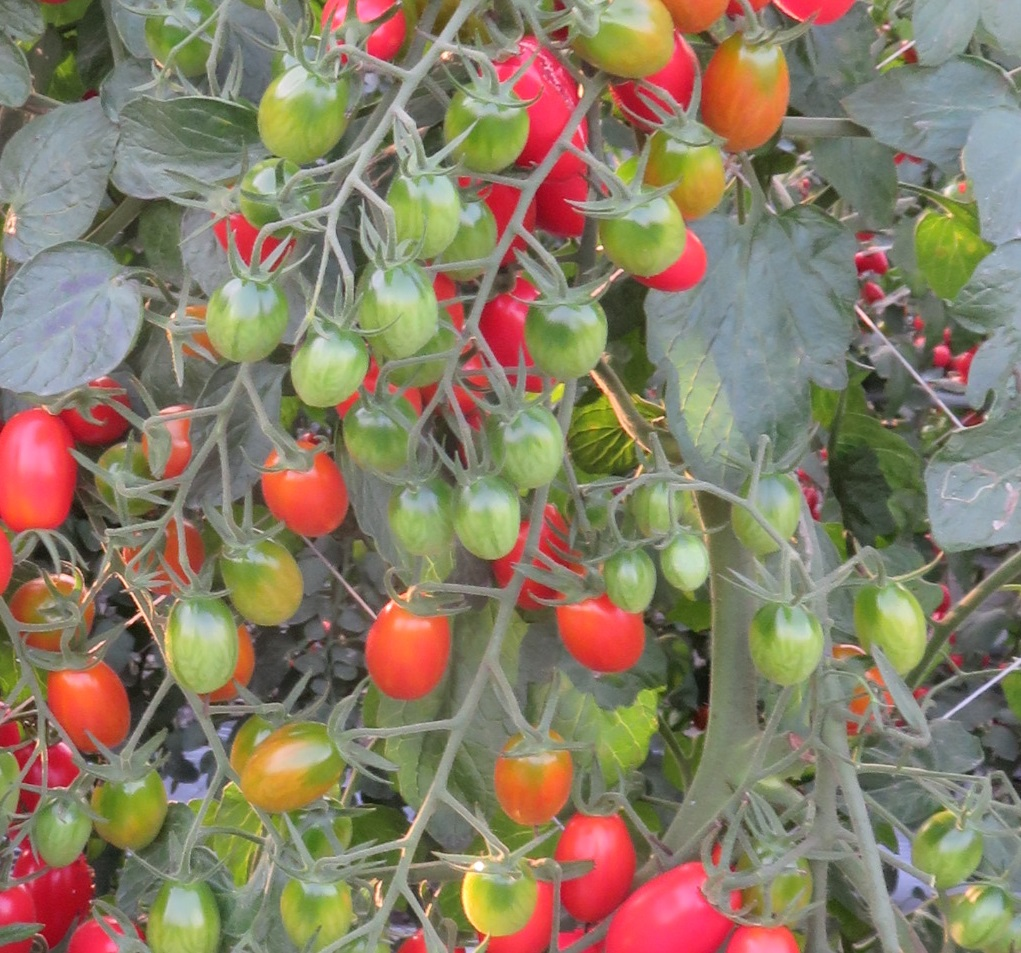green: (250, 66, 355, 161), (552, 4, 678, 82), (588, 185, 684, 278), (850, 582, 933, 684), (203, 274, 294, 362), (385, 164, 461, 264), (167, 588, 238, 693), (224, 534, 304, 626), (525, 294, 608, 382), (277, 874, 370, 948), (90, 764, 170, 850), (750, 595, 822, 688), (291, 327, 373, 407), (359, 267, 438, 350), (459, 857, 541, 935), (488, 408, 566, 489), (449, 477, 522, 562), (728, 471, 801, 554), (342, 395, 420, 471), (741, 843, 814, 924), (241, 156, 320, 230), (448, 85, 521, 165), (144, 881, 225, 953), (26, 793, 93, 874), (911, 809, 984, 880), (96, 443, 163, 513), (639, 136, 723, 190), (390, 484, 452, 556), (948, 879, 1010, 948), (654, 528, 708, 600), (610, 549, 657, 617), (632, 479, 684, 536), (456, 195, 492, 264)
orange: (706, 43, 789, 150), (363, 602, 448, 701), (262, 446, 348, 543), (42, 661, 132, 749), (238, 722, 324, 814), (551, 597, 648, 674), (492, 740, 575, 826), (6, 575, 97, 652), (642, 146, 727, 217), (125, 517, 205, 586), (831, 646, 892, 735), (162, 308, 209, 359), (667, 1, 727, 33)
red: (597, 862, 739, 953), (497, 37, 589, 175), (1, 408, 80, 534), (553, 815, 637, 920), (210, 194, 289, 271), (51, 377, 133, 444), (67, 917, 144, 953), (1, 884, 39, 953), (728, 922, 796, 953), (865, 249, 890, 276), (864, 283, 885, 303), (935, 344, 952, 367)
